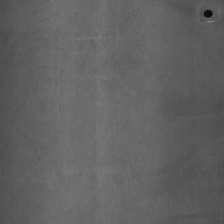punching_hole: (77, 8, 139, 189), (3, 15, 55, 199), (203, 6, 214, 20)
